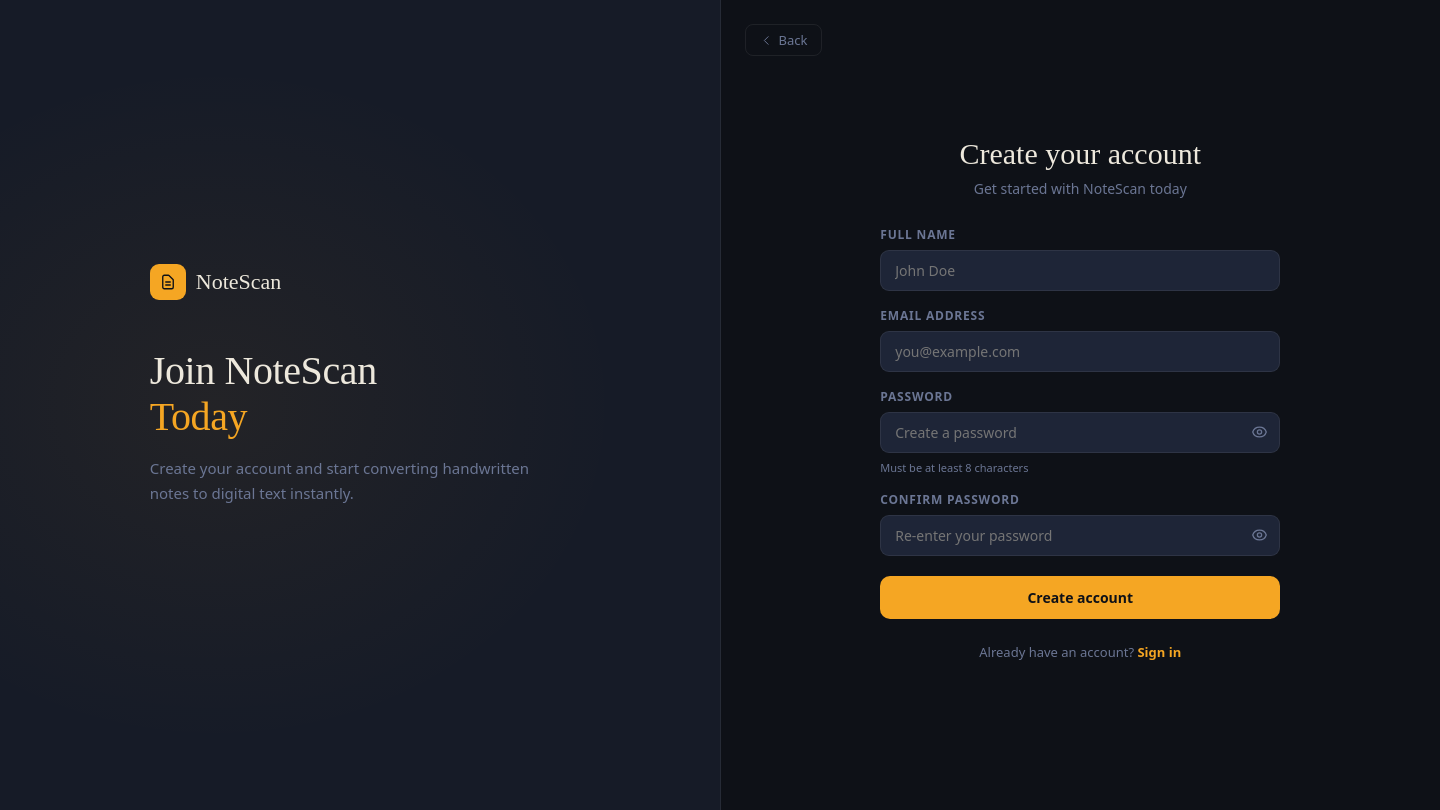
Test case: SignUp › Client-side validation › shows error when email is empty
The image size is (1440, 810).
Type "Test User" into the field with placeholder "John Doe" at (1080, 270), box [880,250,1280,290]
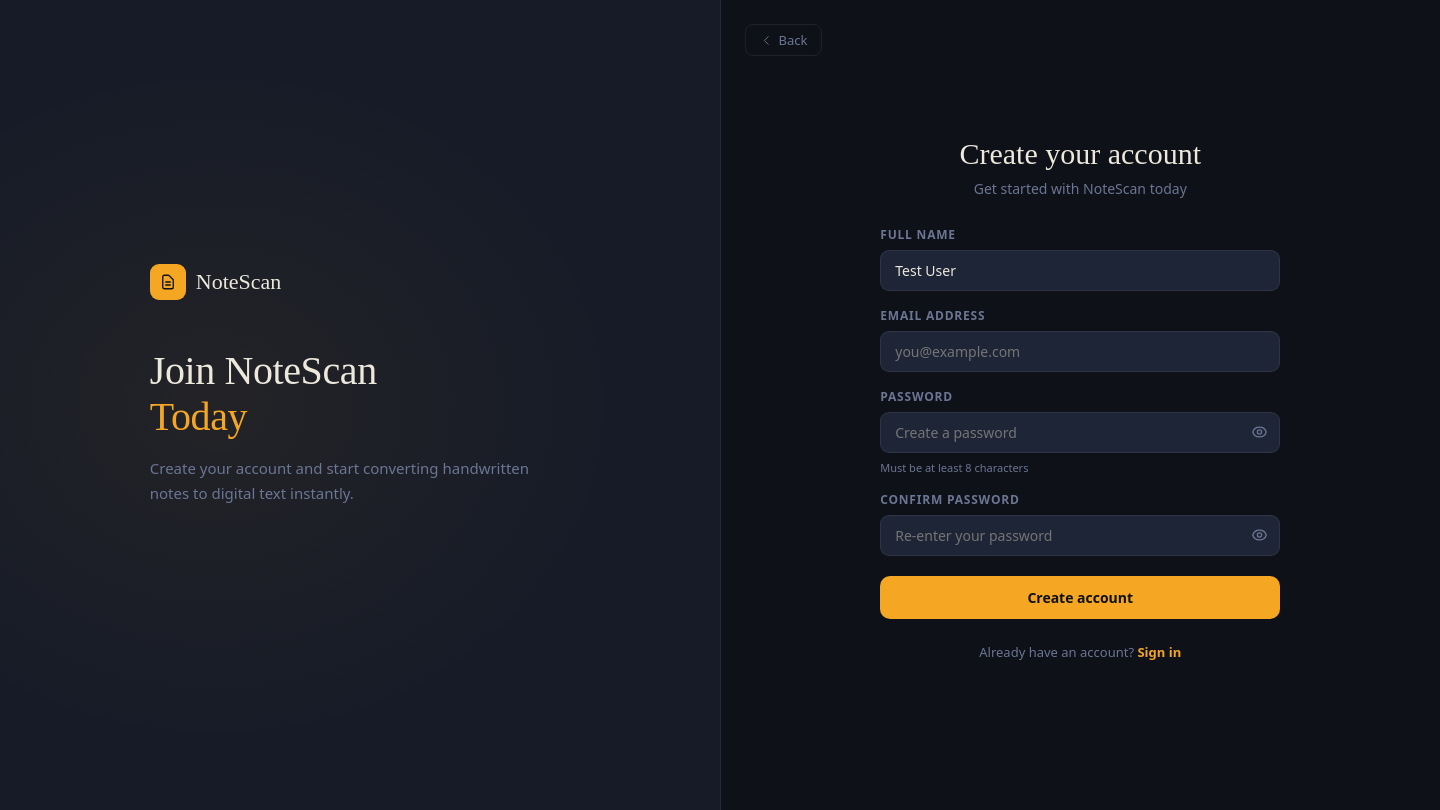
Type "pass1234" into the password field with placeholder "Create a password" at (1080, 432), box [880,412,1280,452]
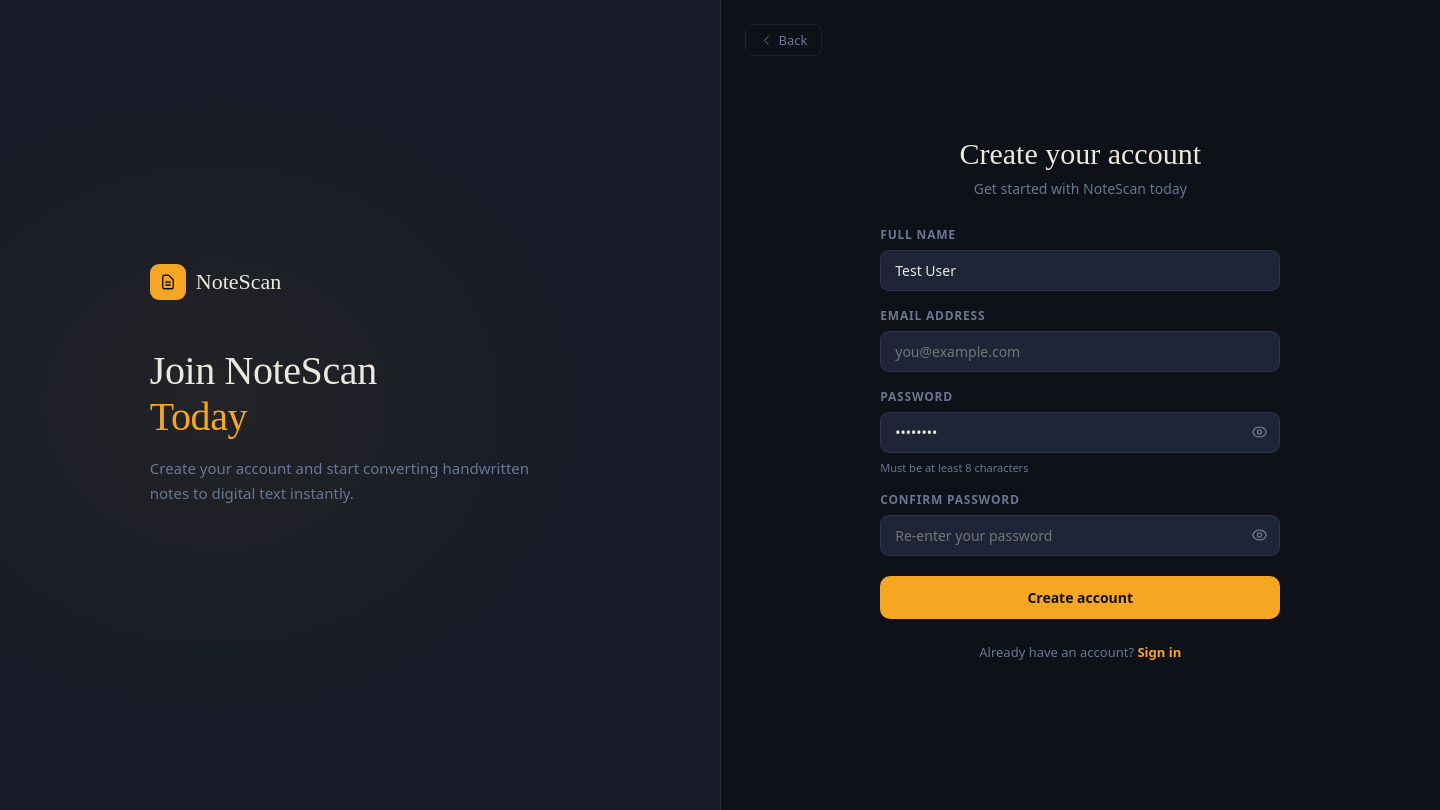
Type "pass1234" into the password field with placeholder "Re-enter your password" at (1080, 535), box [880,514,1280,556]
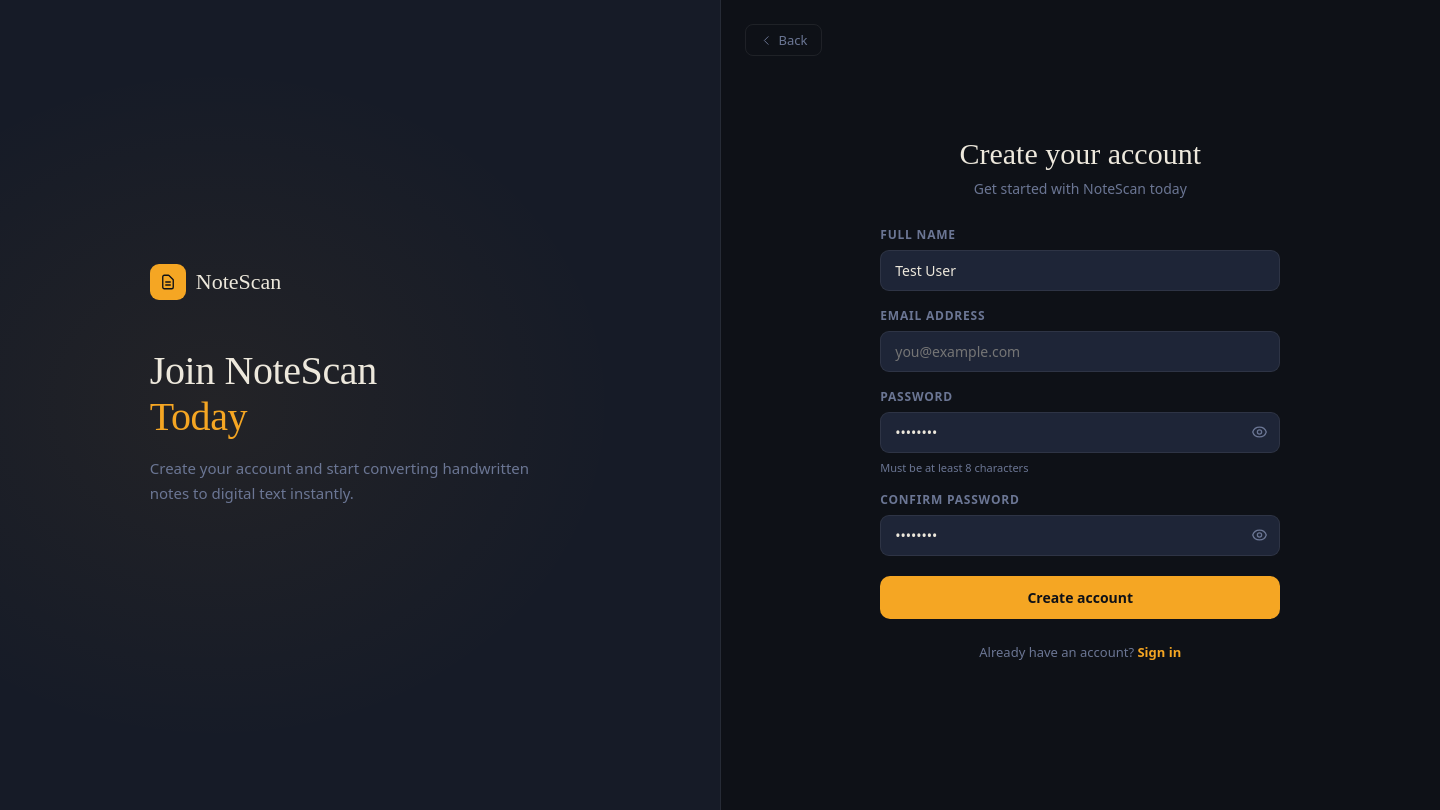
Submit the form named "Create account", box [880,226,1280,618]
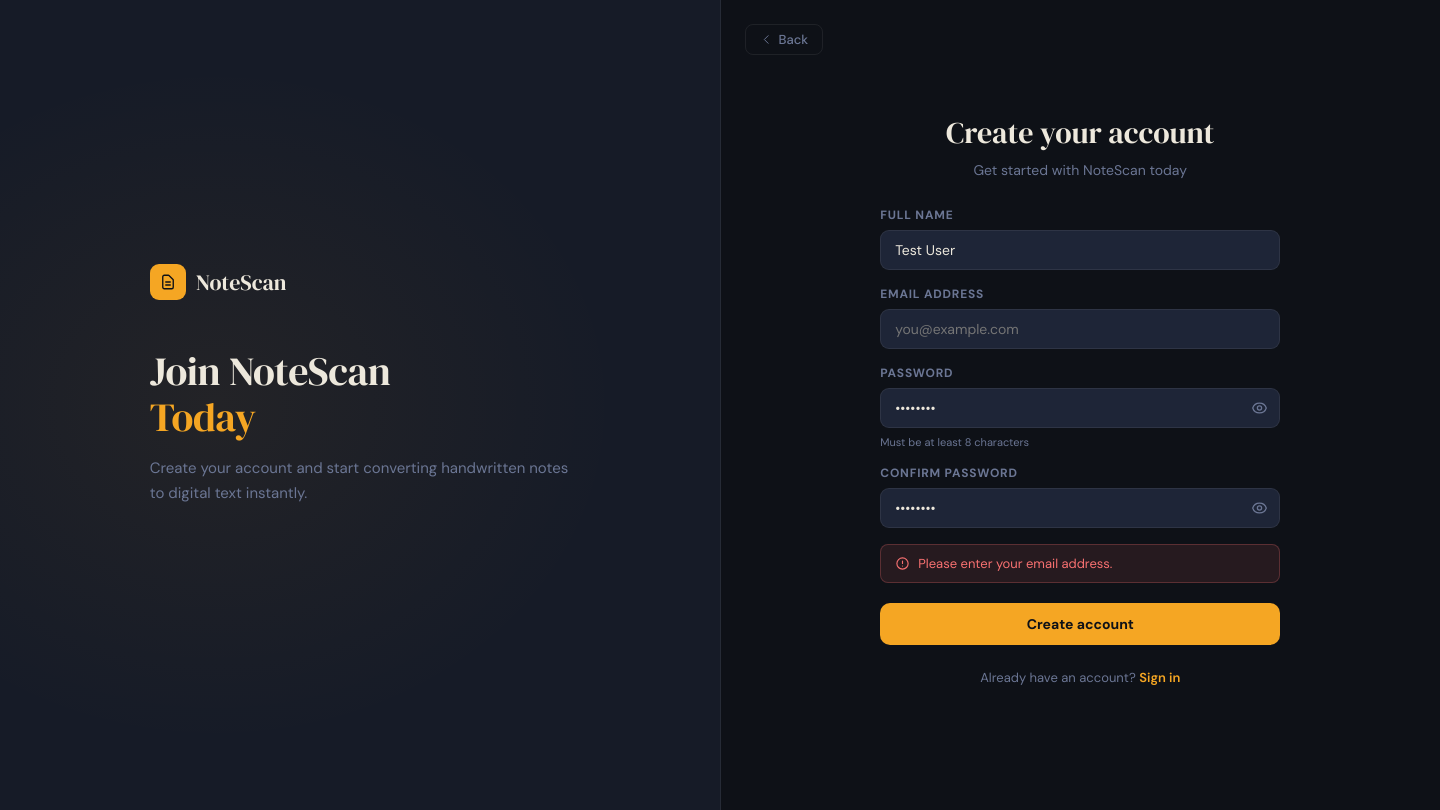
Now the text "Please enter your email address." is shown, box [918,554,1112,572]
